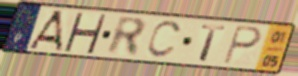A: (26, 9, 66, 53)
C: (144, 19, 184, 60)
H: (62, 11, 109, 56)
P: (221, 24, 263, 66)
R: (105, 14, 148, 59)
T: (198, 23, 228, 63)
